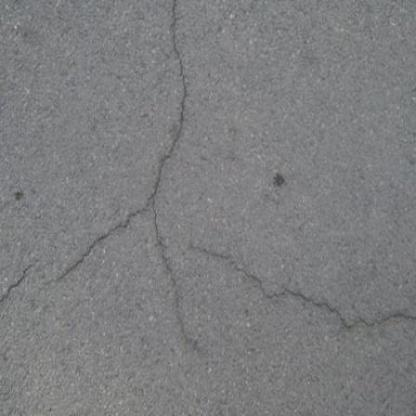Cracks: (135, 1, 211, 358), (172, 230, 416, 334), (19, 190, 147, 298), (1, 248, 40, 320)
